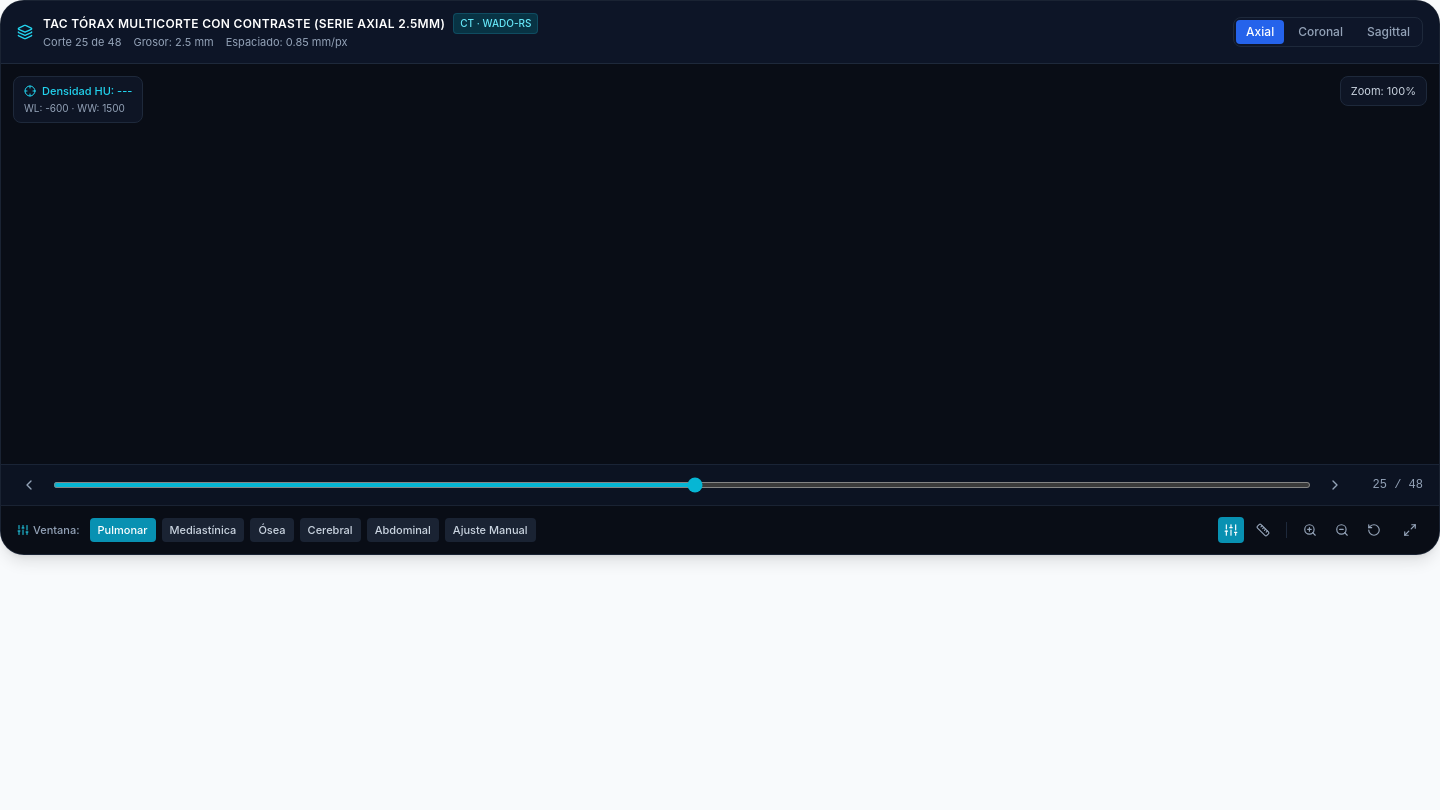
Test: Suite de Pruebas: Visor Diagnóstico DICOM / PACS / WADO-RS (DicomStudyViewer - Ateneo+) › permite navegar entre cortes tomográficos con los botones de avance y retroceso
expect the text "Corte 25 de 48" is shown: met, box left=43, top=34, right=122, bottom=50
// Avanzar un corte
Click the button named "corte siguiente" at (1335, 484), box left=1323, top=472, right=1347, bottom=496
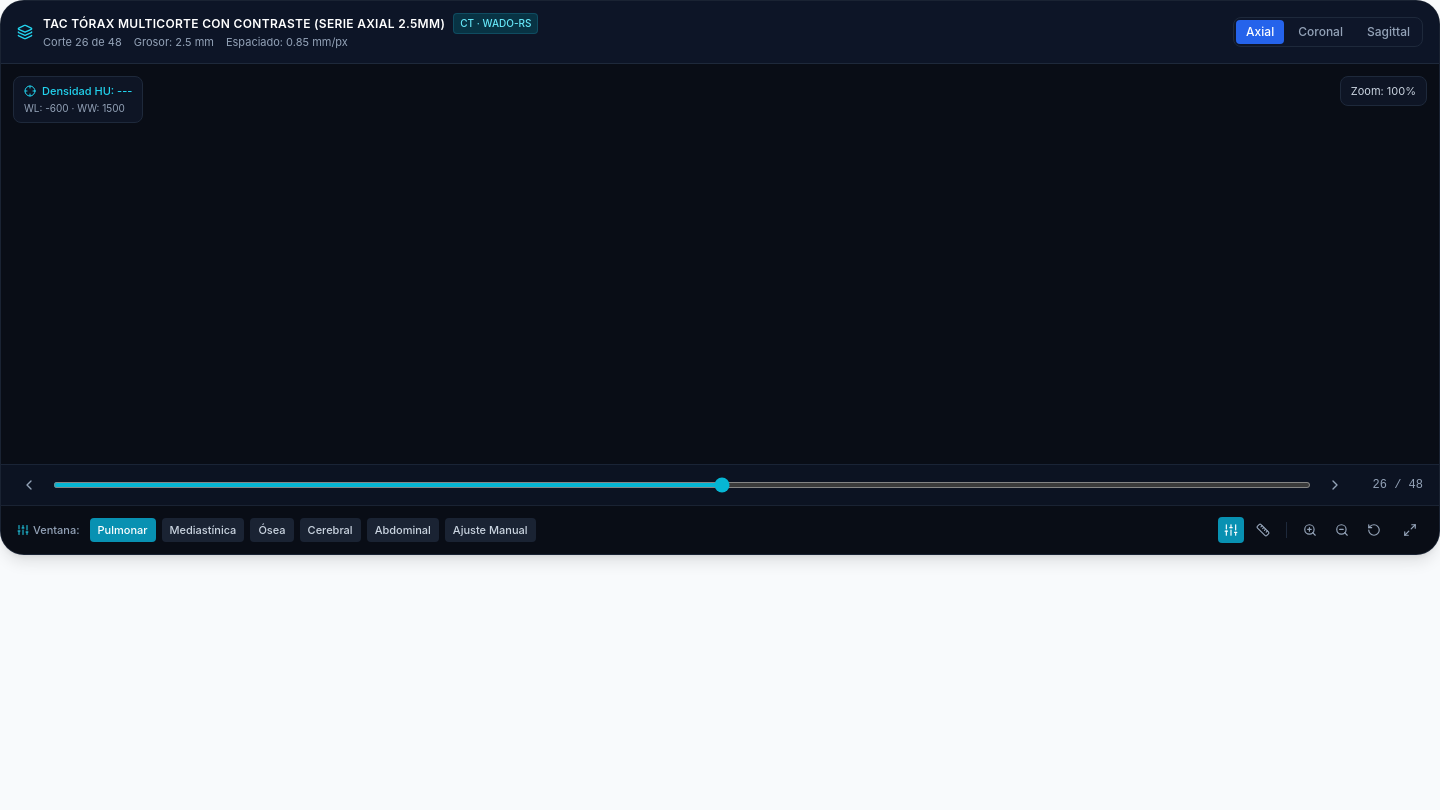
expect the text "Corte 26 de 48" is shown: met, box left=43, top=34, right=122, bottom=50
// Retroceder un corte
Click the button named "corte anterior" at (29, 484), box left=17, top=472, right=41, bottom=496
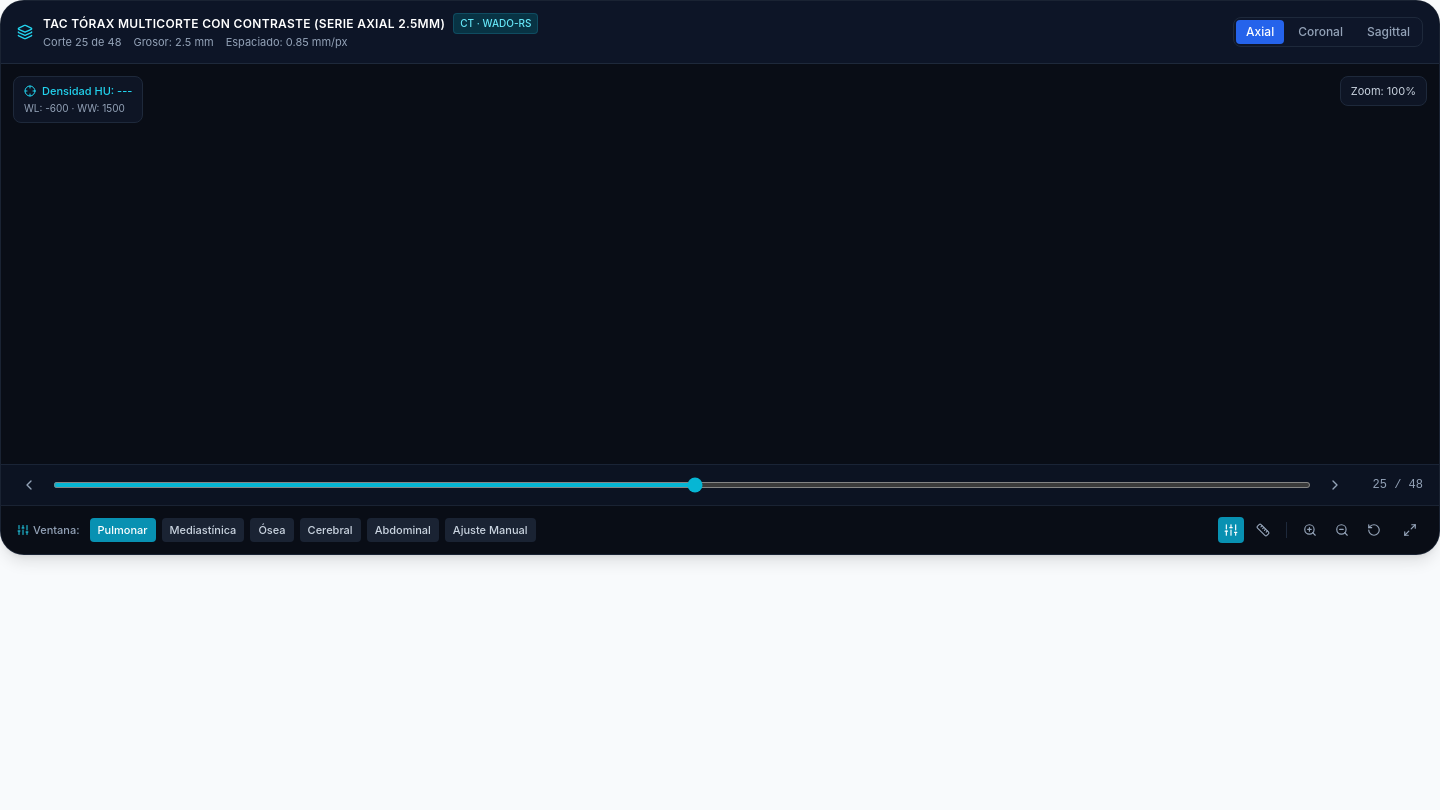
expect the text "Corte 25 de 48" is shown: met, box left=43, top=34, right=122, bottom=50
